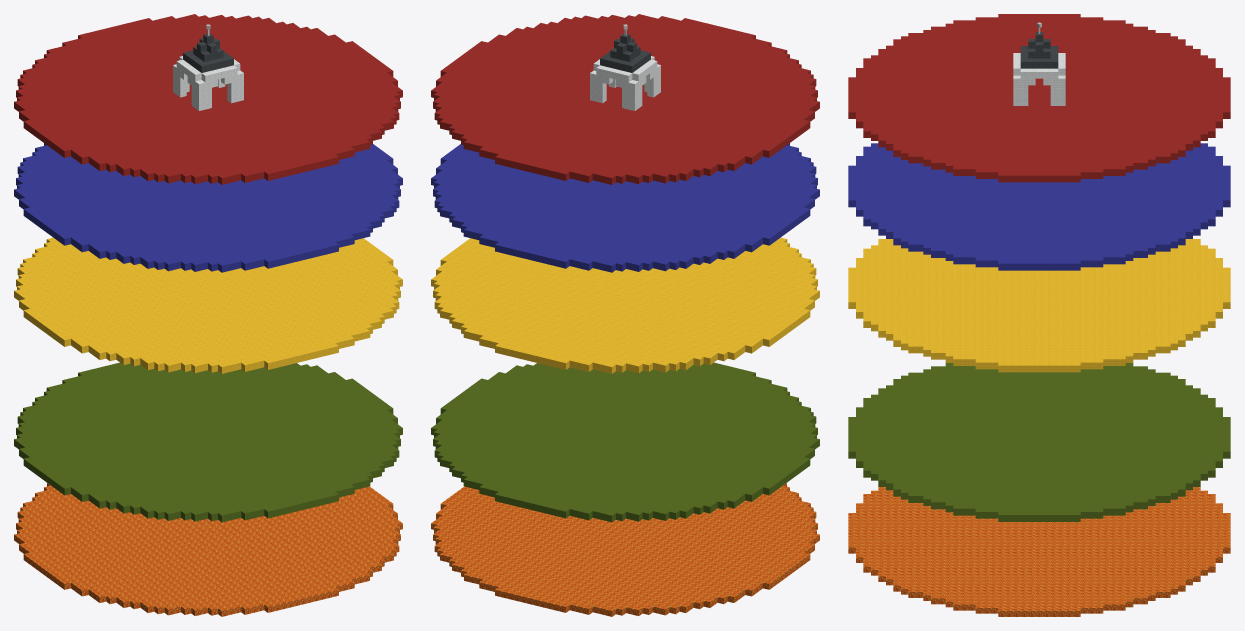
The model's file is minecraft.obj.
The picture shows the model from 3 angles, left to right: view 1: azimuth 30°, elevation 25°; view 2: azimuth 150°, elevation 25°; view 3: azimuth 270°, elevation 25°; orthographic projection.
Size of the model in its own units: 51 by 75.5 by 51.
